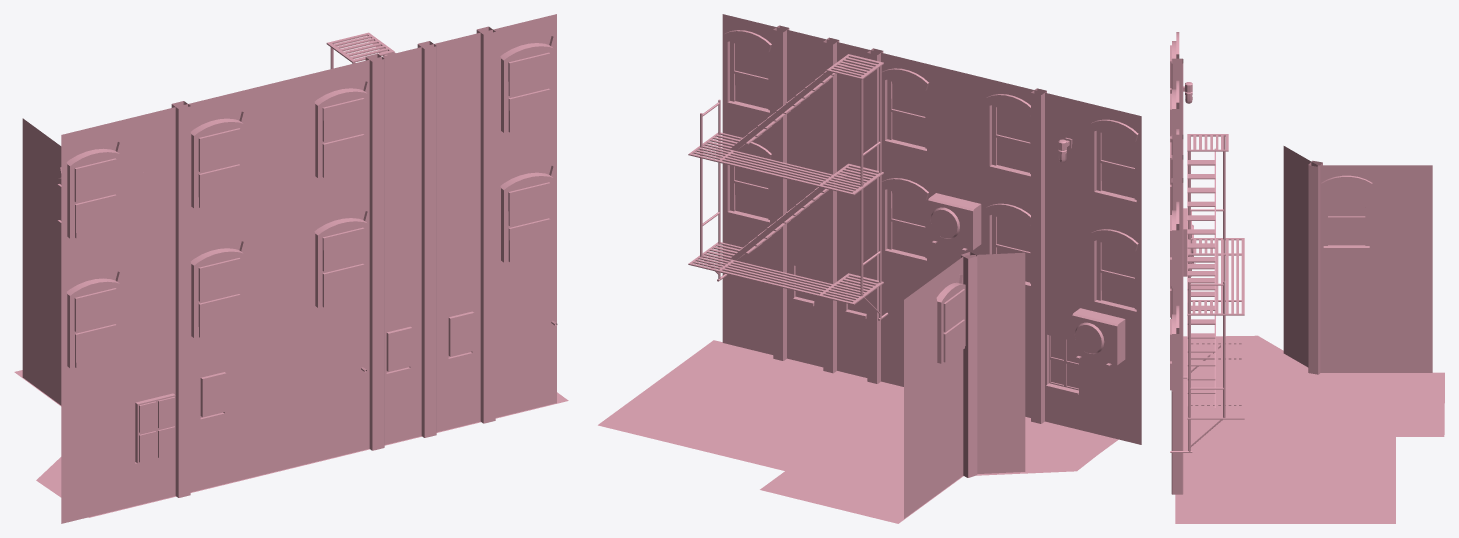
File: AlleyStructureEntrance.fbx
3 views of the same model, side by side, from view 1: azimuth 30°, elevation 25°; view 2: azimuth 150°, elevation 25°; view 3: azimuth 270°, elevation 25° (orthographic). The views are drawn at different scales.
Parts seen in each view (by area): view 1: AlleyStructureEntrance; view 2: AlleyStructureEntrance; view 3: AlleyStructureEntrance.
Part boxes in pixels (x1=…): AlleyStructureEntrance: x1=14, y1=14, x2=568, y2=523; AlleyStructureEntrance: x1=598, y1=14, x2=1141, y2=523; AlleyStructureEntrance: x1=1170, y1=32, x2=1444, y2=523.
Size of the model in its own units: 1636 by 1200 by 959.
